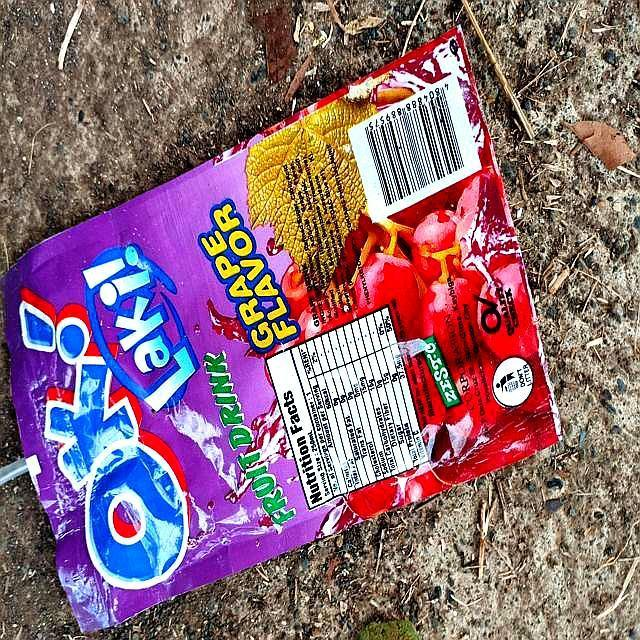Non-biodegradable: (2, 26, 565, 634)
